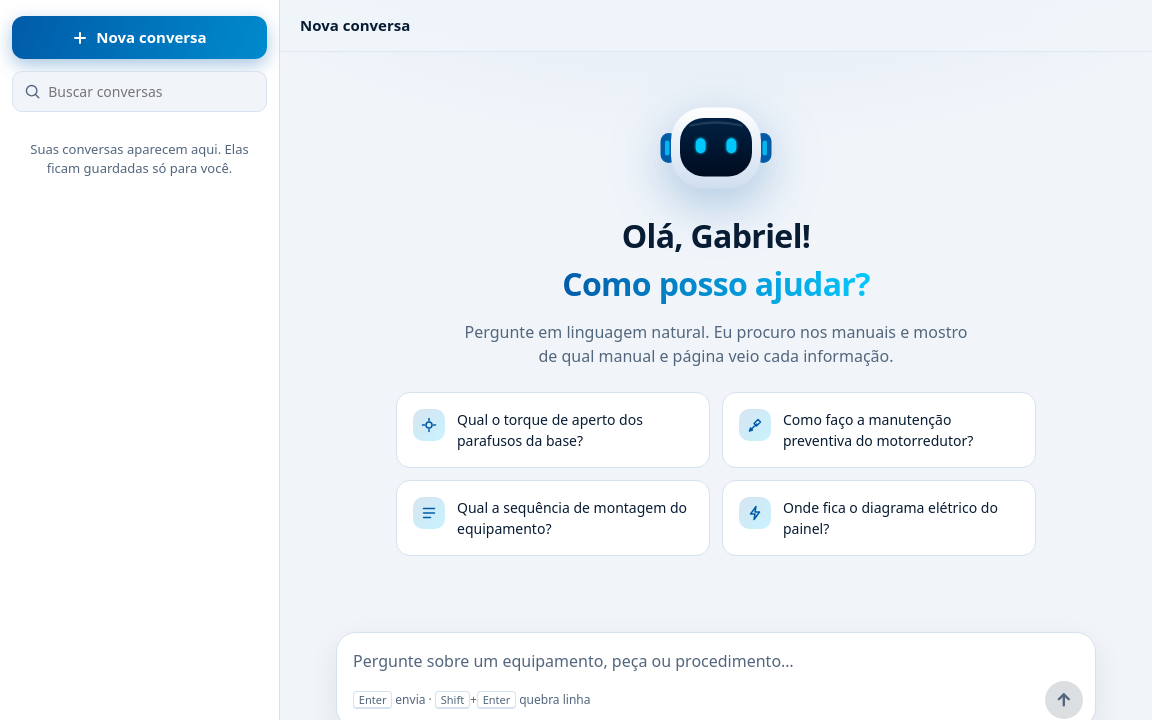
Test case: <ChatPage /> › answers with a link to the cited page and saves the new conversation
Type "Qual a pressão máxima?" into the text box named "sua pergunta".
click(718, 661); type("Qual a pressão máxima?")  # box left=353, top=645, right=1083, bottom=677
Then press Enter
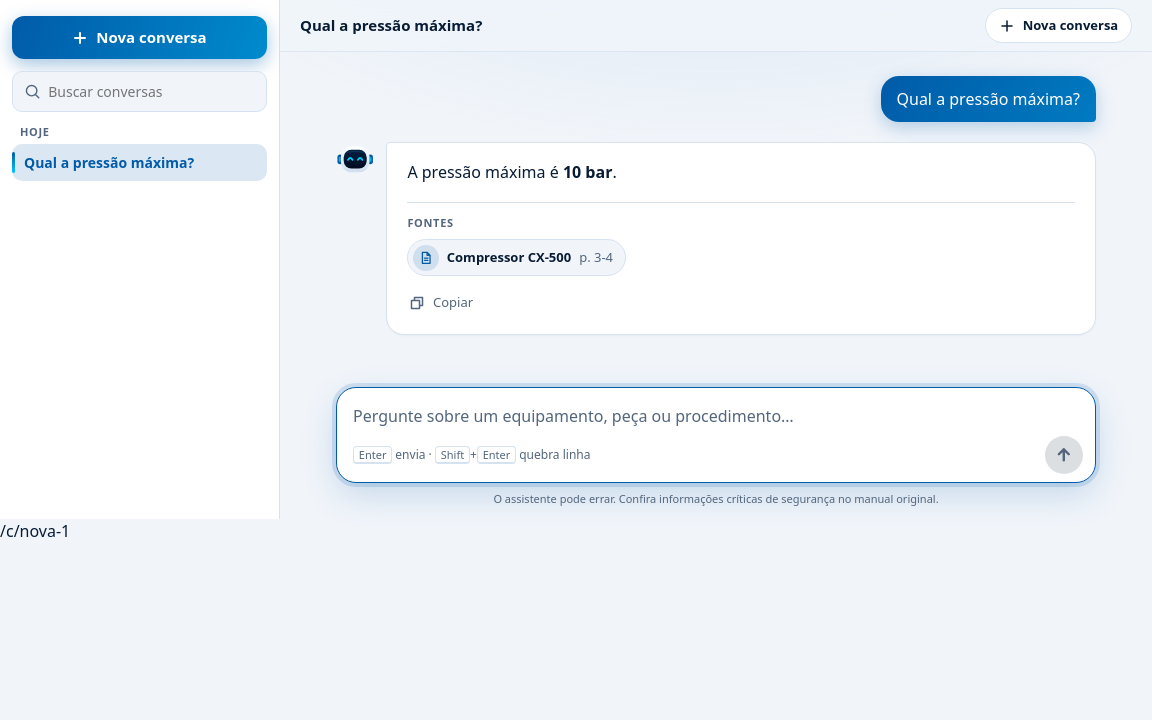
Expected: the text box named "sua pergunta" is empty, left=353, top=400, right=1083, bottom=432
Result: the text "Qual a pressão máxima?" is shown at left=880, top=76, right=1096, bottom=122
Result: the text with test id "location" reads "/c/nova-1" at left=0, top=520, right=70, bottom=542
